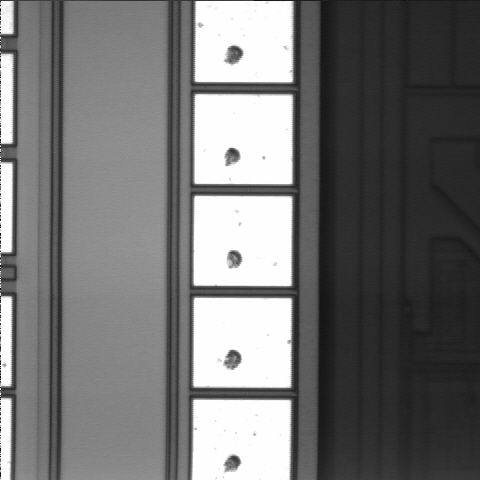pad: (194, 94, 292, 184), (194, 196, 292, 286), (194, 298, 291, 388)
